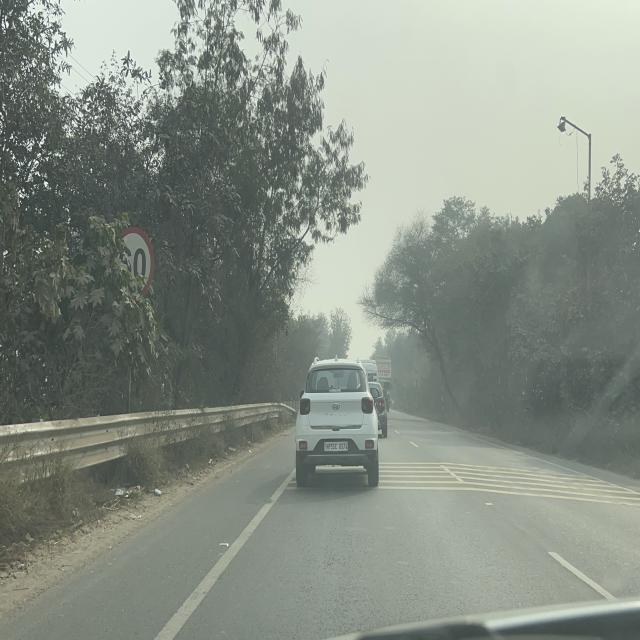SPEED_LIMIT_60: (113, 224, 156, 302)
